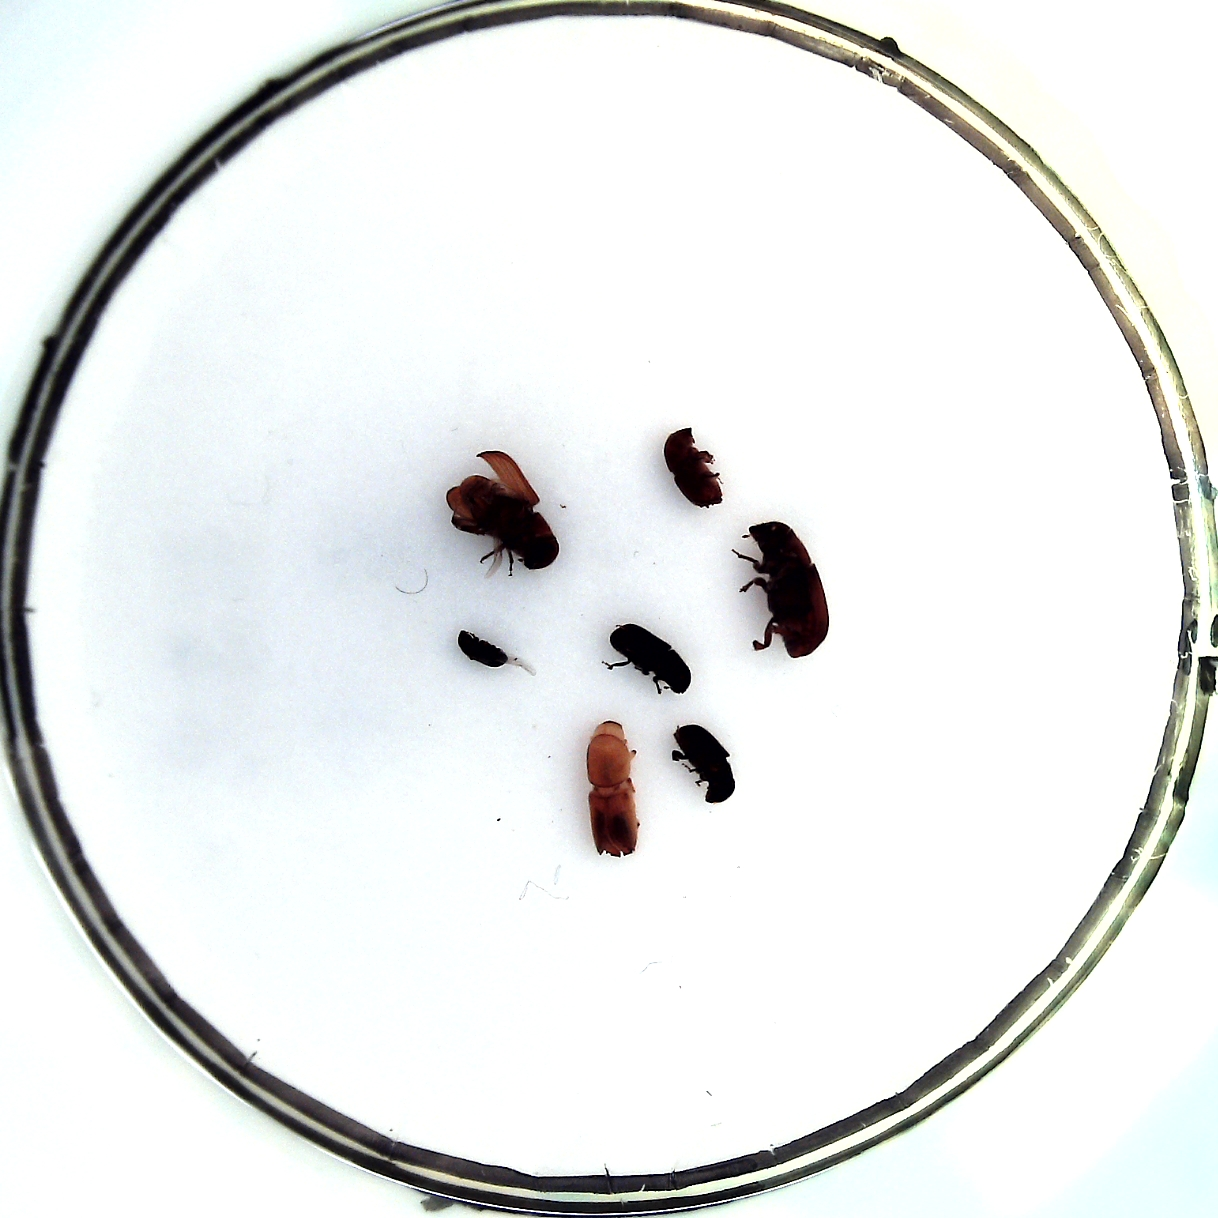Boerner: (587, 721, 640, 858)
Leconte: (445, 449, 559, 571), (747, 521, 828, 659)
armandi: (610, 623, 692, 694), (671, 723, 734, 804)
coleoptera: (460, 630, 507, 668)
linnaeus: (664, 428, 724, 509)
